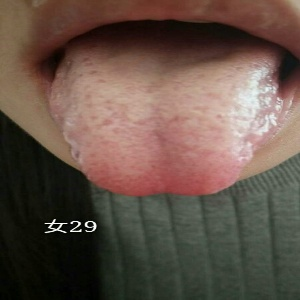st: (51, 60, 279, 193)
